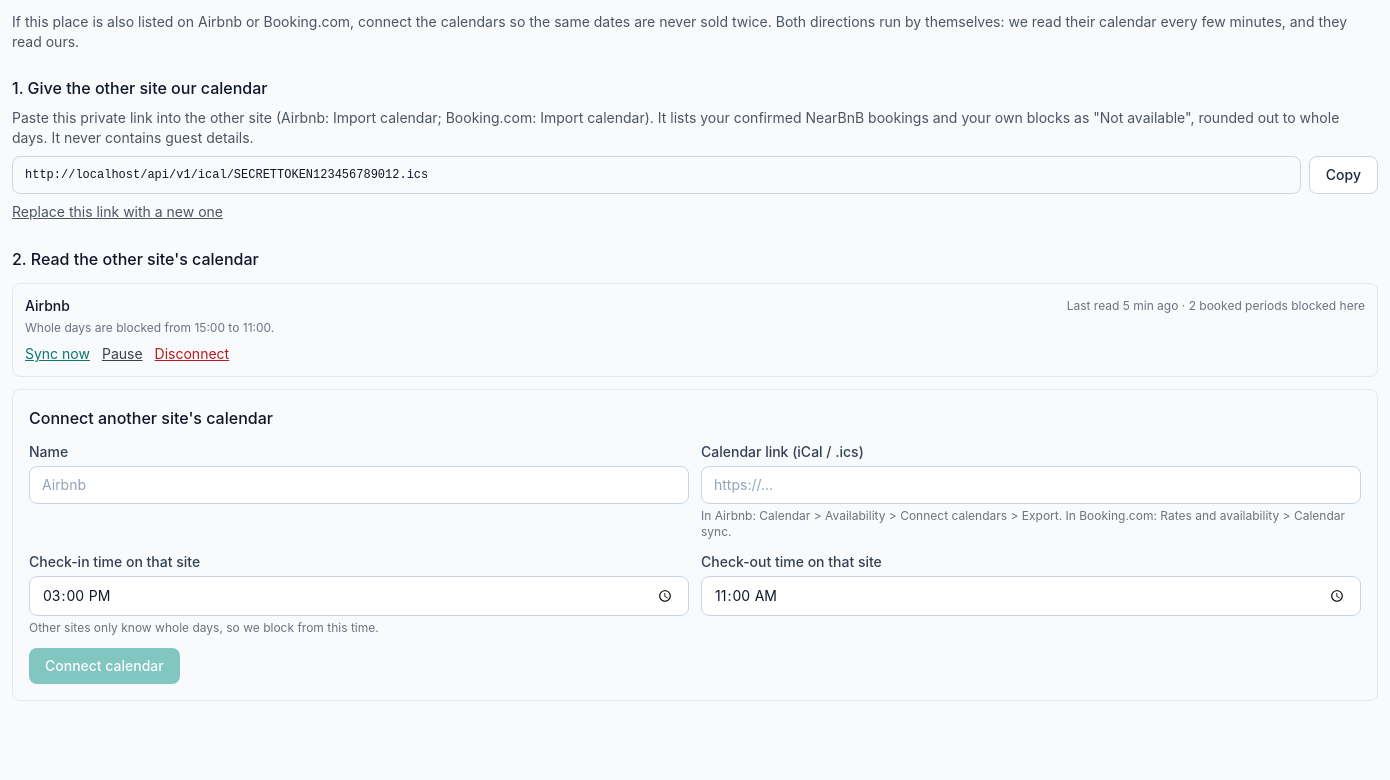
calendar sync for a unit › shows the server's reason when syncing is refused
The width and height of the screenshot is (1390, 780).
Step 1. Click the button "Sync now" → {"x": 57, "y": 354}, box [25,344,90,364]
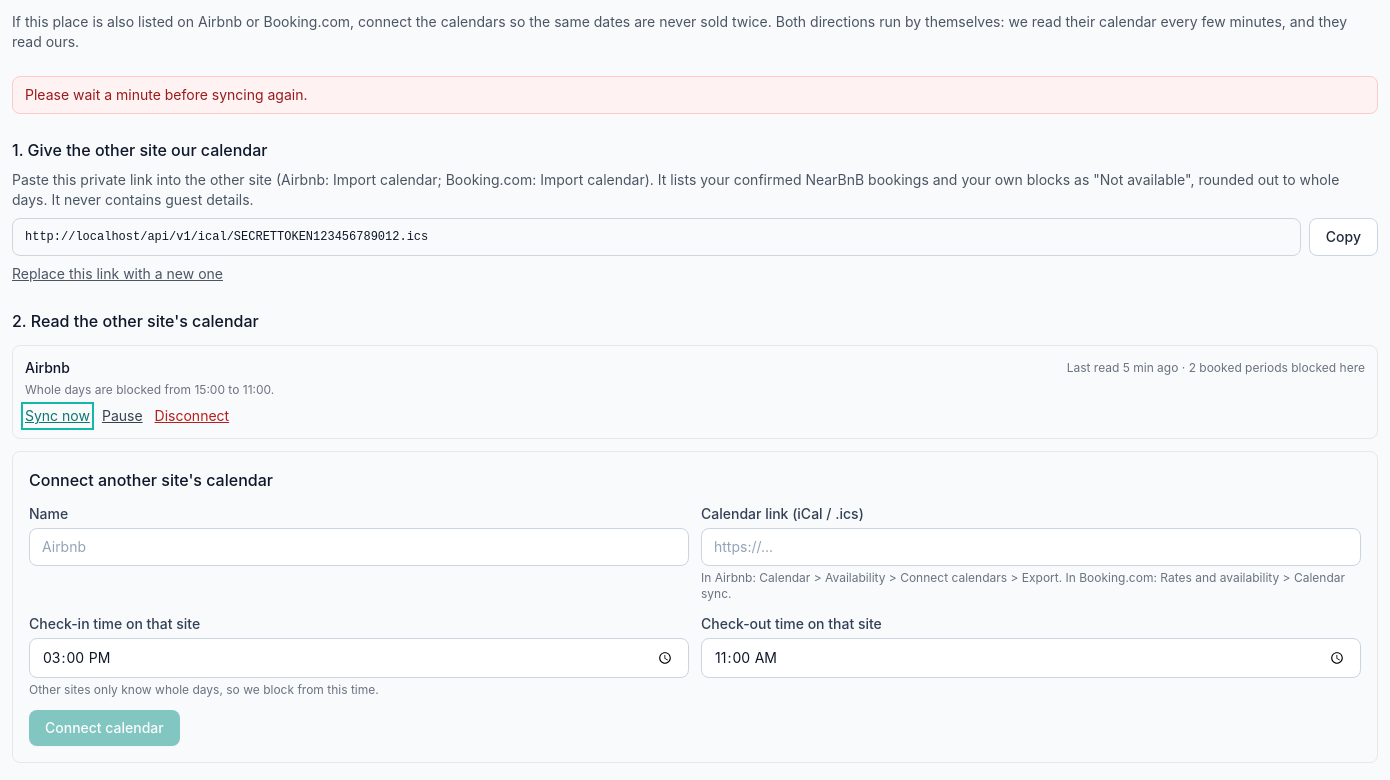
Expected: the text "Please wait a minute before syncing again." is shown, [12,76,1378,114]
